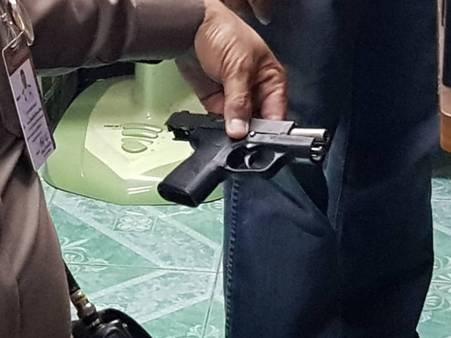gun: (154, 109, 334, 208)
